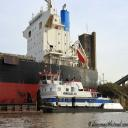tugboat: (28, 53, 128, 116)
